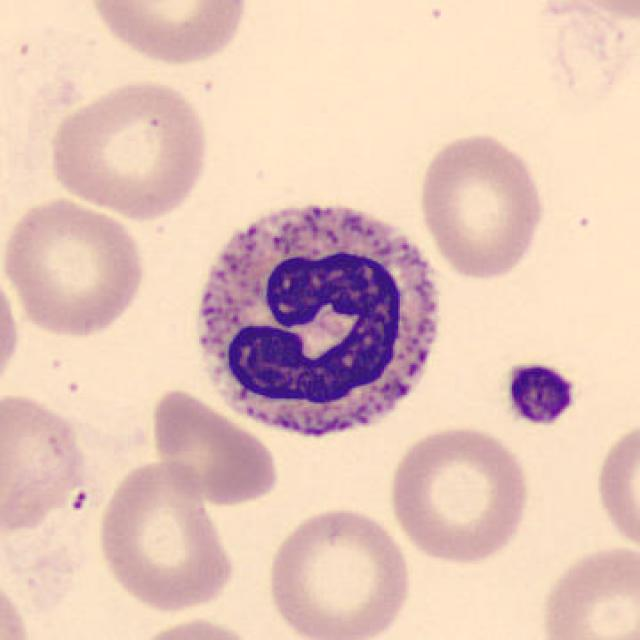Neutrophil: (178, 185, 453, 457)
Platelets: (499, 358, 582, 428)
RBC: (45, 76, 214, 220), (92, 455, 240, 615), (0, 193, 149, 340), (384, 421, 533, 566), (263, 502, 416, 640), (414, 129, 548, 282), (146, 384, 281, 506), (0, 388, 89, 539), (84, 0, 252, 69), (535, 539, 638, 640), (592, 414, 638, 557), (126, 613, 264, 640), (0, 259, 25, 399), (0, 567, 35, 640)
